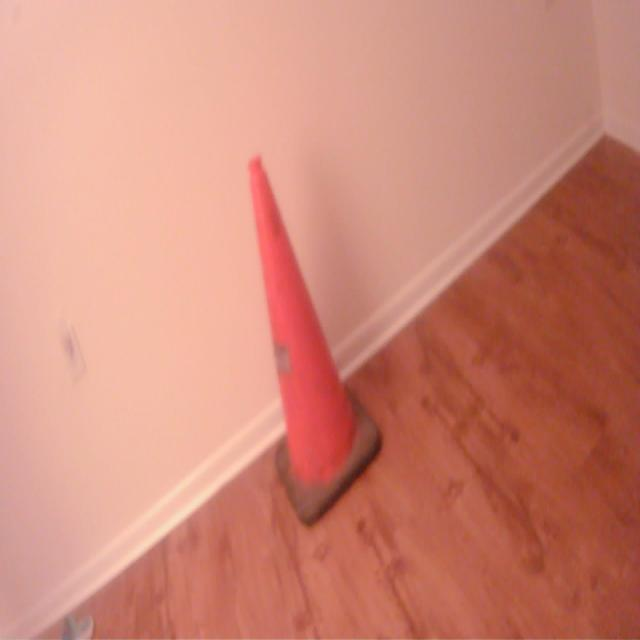traffic cone: (247, 150, 386, 530)
